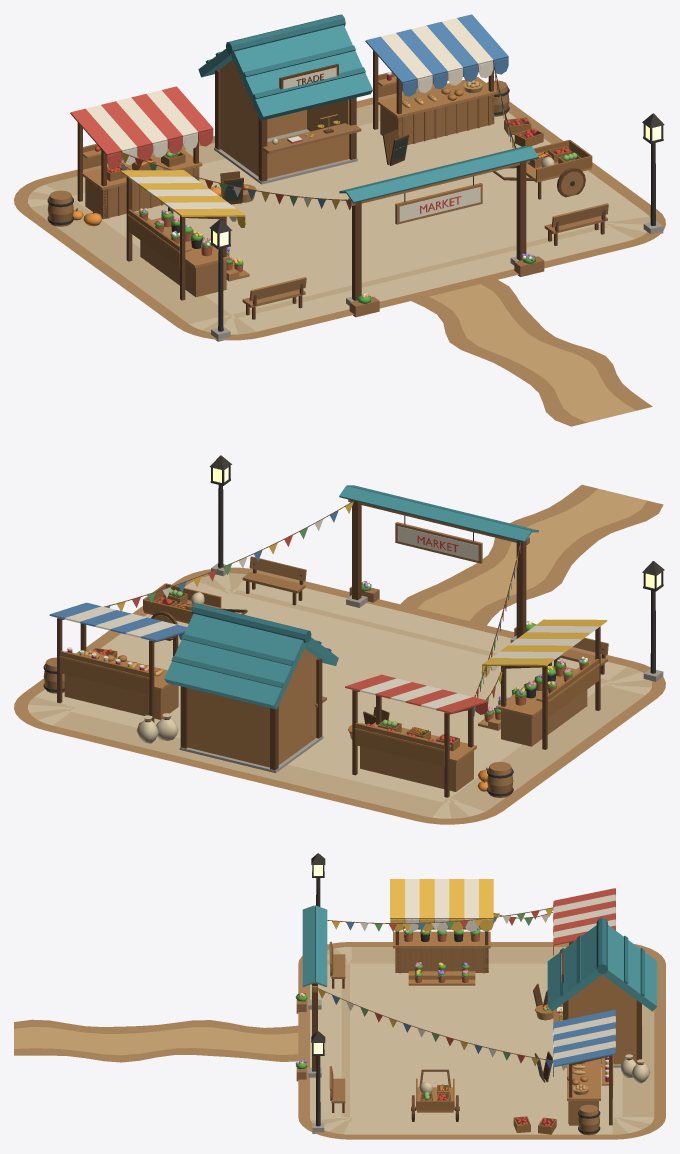
Rendered from market_scene.glb.
The picture shows the model from 3 angles, top to bottom: view 1: azimuth 30°, elevation 25°; view 2: azimuth 150°, elevation 25°; view 3: azimuth 270°, elevation 25°; orthographic projection. The views are drawn at different scales.
Parts seen in each view (by area): view 1: Market_Ground.001, Market_TradingBooth_01, Market_StallBakery_01, Market_StallProduce_01, Market_StallFlowers_01, Market_MarketSign_01, Market_MarketCart_01, Market_Bunting, Market_Bench_01, Market_Bench_02, Market_Lamp_01, Market_Lamp_02 (+1 smaller); view 2: Market_Ground.001, Market_TradingBooth_01, Market_StallProduce_01, Market_StallFlowers_01, Market_StallBakery_01, Market_MarketSign_01, Market_MarketCart_01, Market_Bunting, Market_Bench_02, Market_Lamp_01, Market_Lamp_02, Market_Barrel_02 (+1 smaller); view 3: Market_Ground.001, Market_StallFlowers_01, Market_TradingBooth_01, Market_StallBakery_01, Market_MarketSign_01, Market_StallProduce_01, Market_Bunting, Market_MarketCart_01, Market_Lamp_02, Market_Barrel_01, Market_Bench_02, Market_Bench_01 (+1 smaller).
Boxes of the visible parts, x1,y1,x2,y2 form: Market_Ground.001: (14, 83, 665, 426); Market_TradingBooth_01: (198, 14, 372, 184); Market_StallBakery_01: (365, 14, 508, 165); Market_StallProduce_01: (70, 86, 243, 226); Market_StallFlowers_01: (120, 170, 249, 300); Market_MarketSign_01: (339, 146, 544, 317); Market_MarketCart_01: (493, 140, 592, 199); Market_Bunting: (118, 61, 516, 210); Market_Bench_01: (242, 277, 306, 319); Market_Bench_02: (544, 203, 608, 245); Market_Lamp_01: (209, 219, 231, 341); Market_Lamp_02: (642, 113, 664, 234); Market_Ground.001: (14, 484, 665, 824); Market_TradingBooth_01: (164, 603, 338, 773); Market_StallProduce_01: (345, 674, 487, 797); Market_StallFlowers_01: (478, 619, 607, 749); Market_StallBakery_01: (49, 602, 187, 722); Market_MarketSign_01: (339, 485, 538, 642); Market_MarketCart_01: (143, 583, 247, 640); Market_Bunting: (104, 501, 521, 716); Market_Bench_02: (242, 556, 306, 605); Market_Lamp_01: (642, 561, 664, 681); Market_Lamp_02: (209, 455, 231, 576); Market_Barrel_02: (487, 761, 513, 797); Market_Ground.001: (14, 942, 665, 1139); Market_StallFlowers_01: (390, 879, 493, 985); Market_TradingBooth_01: (547, 917, 657, 1067); Market_StallBakery_01: (534, 1009, 615, 1125); Market_MarketSign_01: (295, 905, 327, 1081); Market_StallProduce_01: (533, 888, 615, 1006); Market_Bunting: (318, 907, 566, 1070); Market_MarketCart_01: (411, 1069, 459, 1121); Market_Lamp_02: (311, 1031, 325, 1133); Market_Barrel_01: (578, 1104, 600, 1135); Market_Bench_02: (329, 1066, 345, 1112); Market_Bench_01: (329, 941, 345, 988).
Bounding box in the file's own units: 14 × 3.64 × 19.5.
